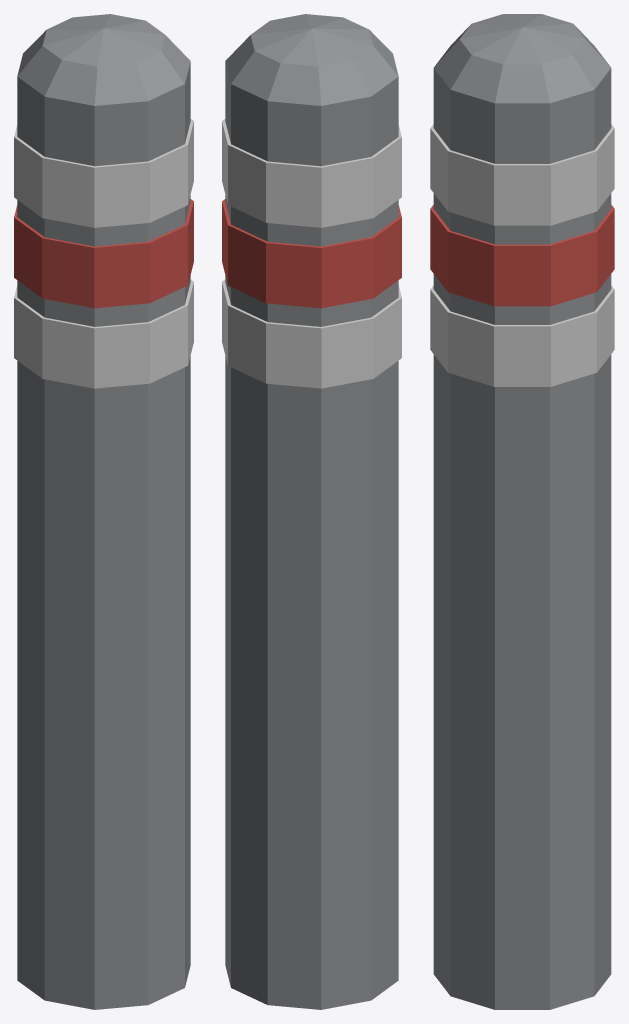
Rendered from bollard.glb.
3 renders of one model, left to right at view 1: azimuth 30°, elevation 25°; view 2: azimuth 150°, elevation 25°; view 3: azimuth 270°, elevation 25°, orthographic.
Visible parts, largest first — view 1: bollard; view 2: bollard; view 3: bollard.
Boxes of the visible parts, x1,y1,x2,y2 form: bollard: (14, 14, 193, 1009); bollard: (222, 14, 401, 1009); bollard: (430, 14, 614, 1009).
Bounding box in the file's own units: 0.1579 × 0.94 × 0.1659.
